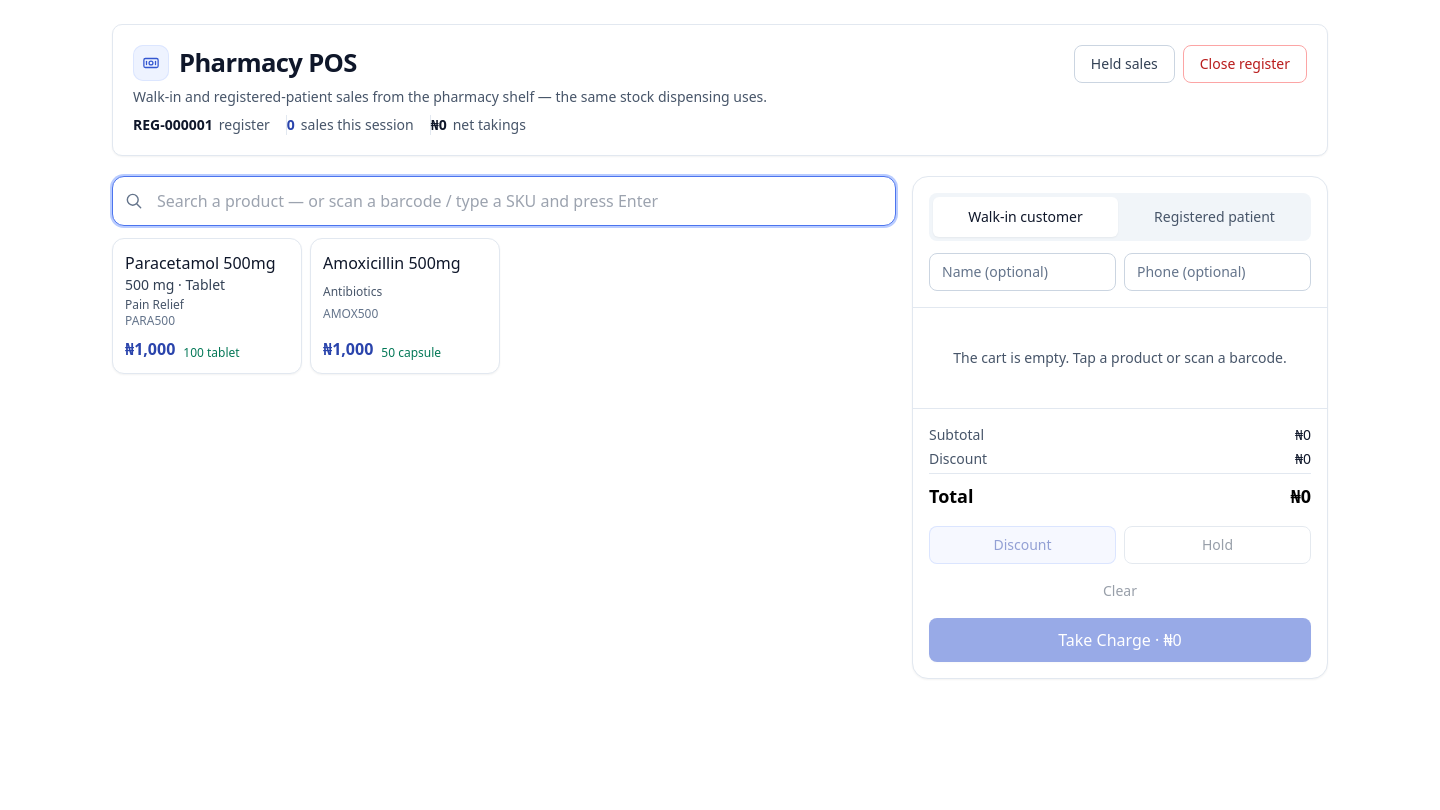
Test case: the policy on screen › offers only the kind of discount the hospital allows
Click the button "Paracetamol 500mg": [207, 306] box [112,238,302,374]
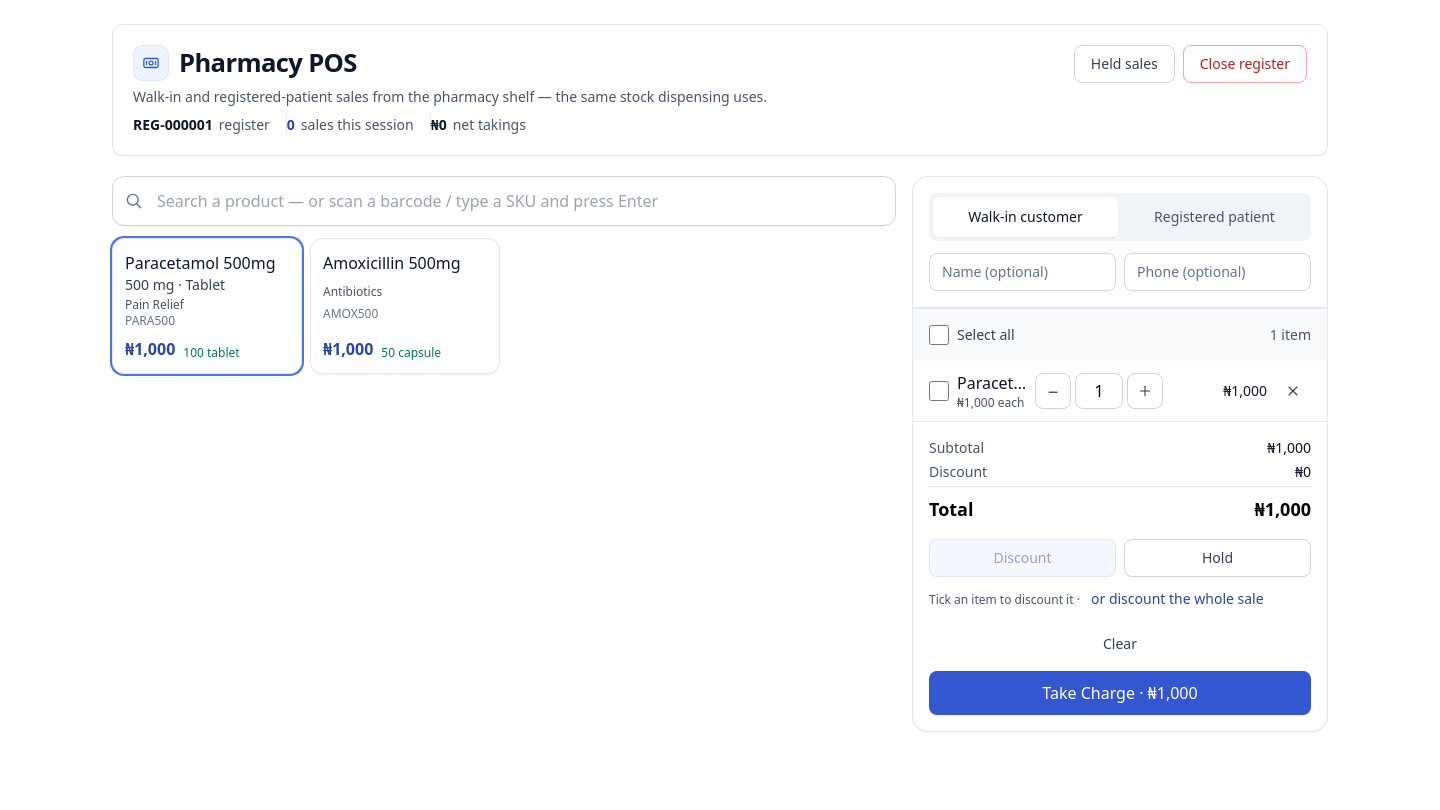
Click the checkbox named "Select Paracetamol 500mg": [939, 391] box [929,381,949,401]
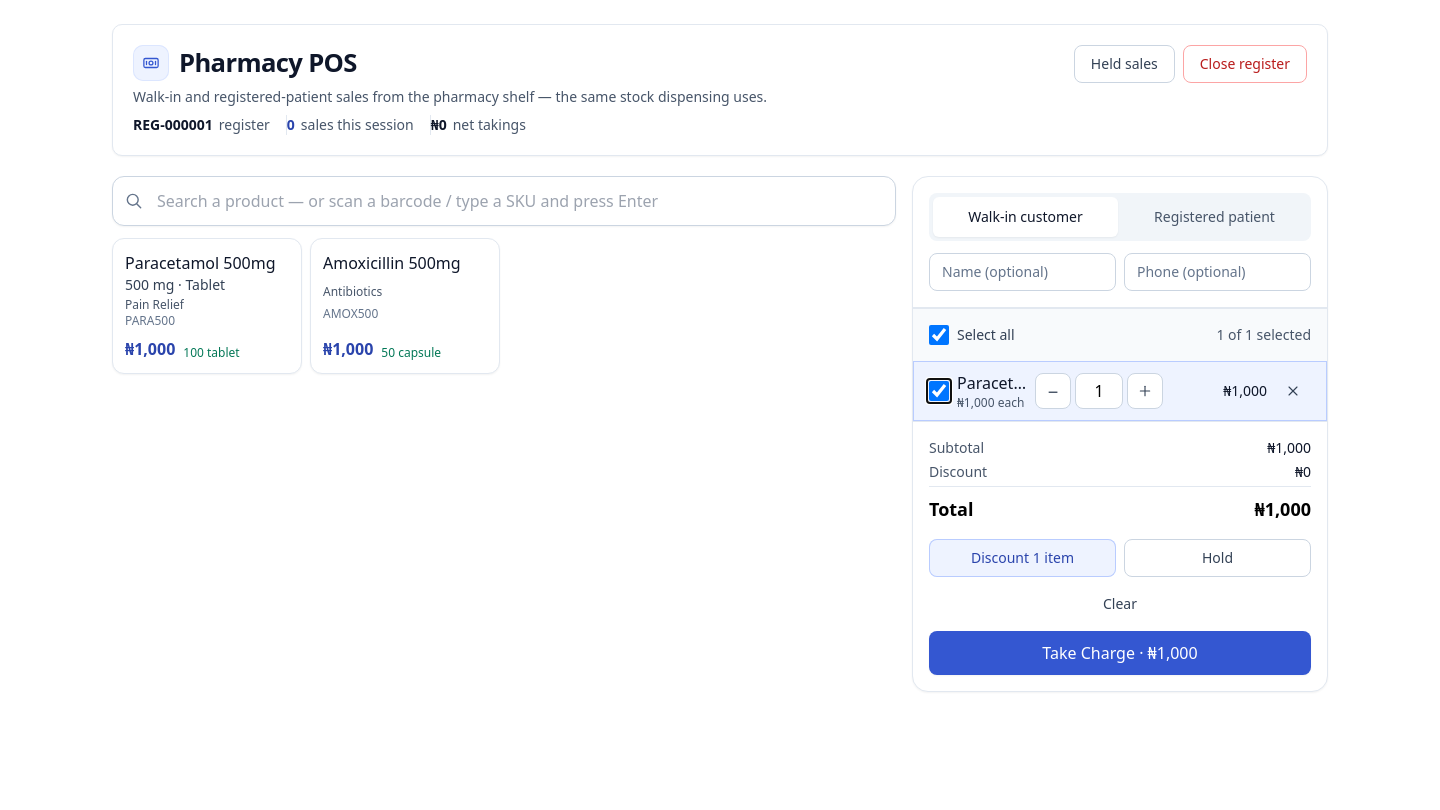
Click the button "Discount 1 item": [1022, 558] box [929,539,1116,577]
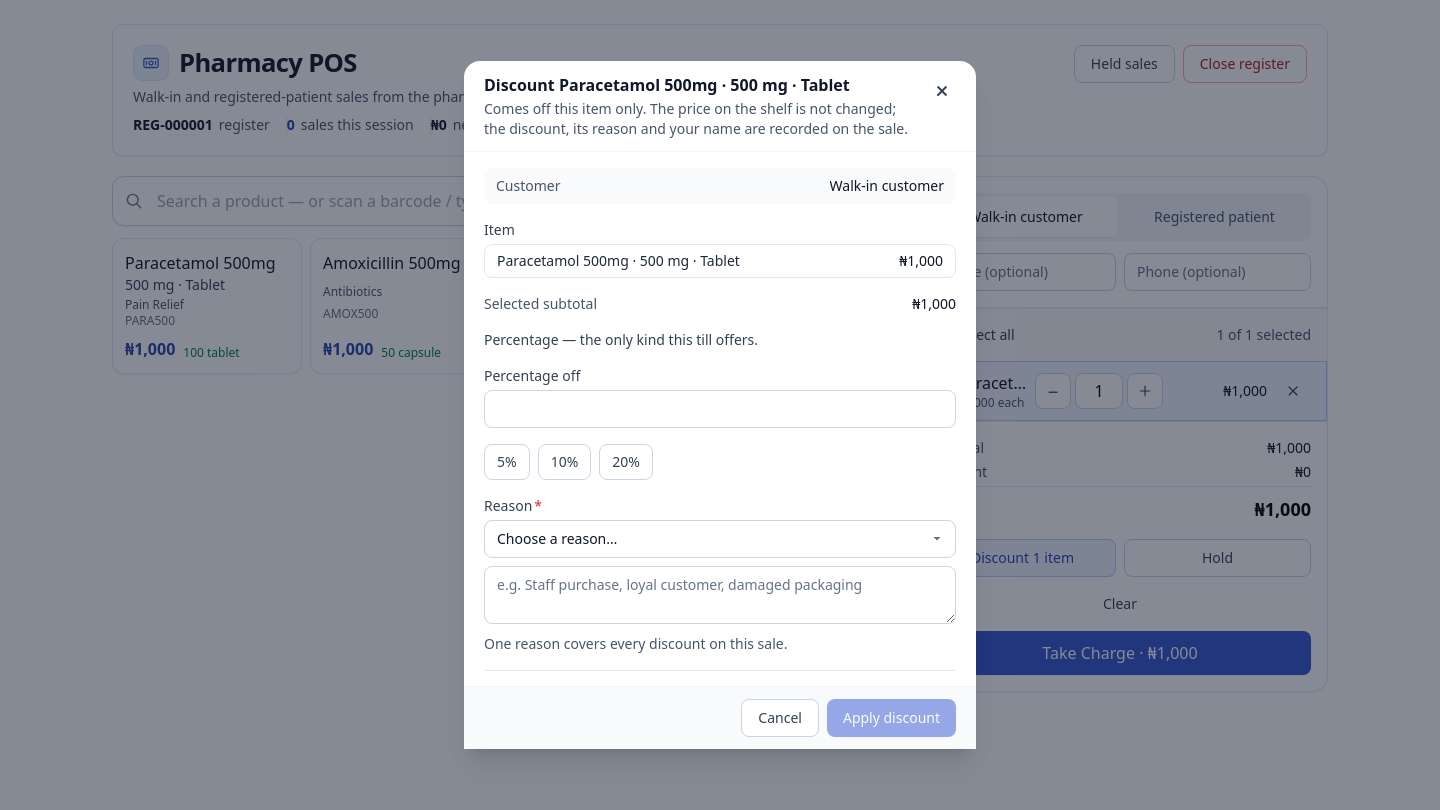
Expected: the text "Percentage — the only kind this till offers." is shown, [484,330,758,349]
